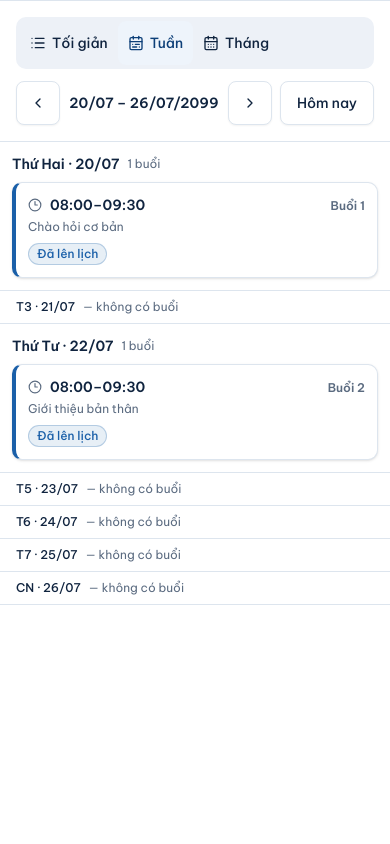
it: SessionCalendar — bố cục dọc cho màn hẹp › chạm một ngày trong lưới tháng thì panel chi tiết đổi theo
Click the button "Tháng": (236, 43) x1=193 y1=21 x2=279 y2=65
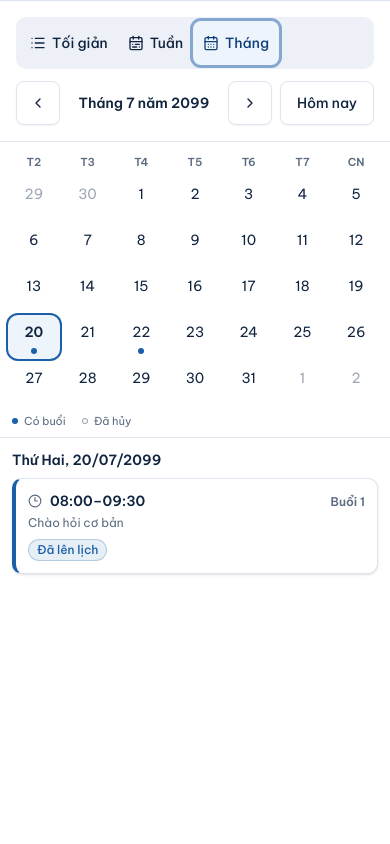
Expected: the heading "Thứ Hai, 20/07/2099" is shown, x1=12 y1=451 x2=161 y2=469
Click the button named "22/07/2099 — 1 buổi học": (141, 336) x1=115 y1=314 x2=167 y2=358
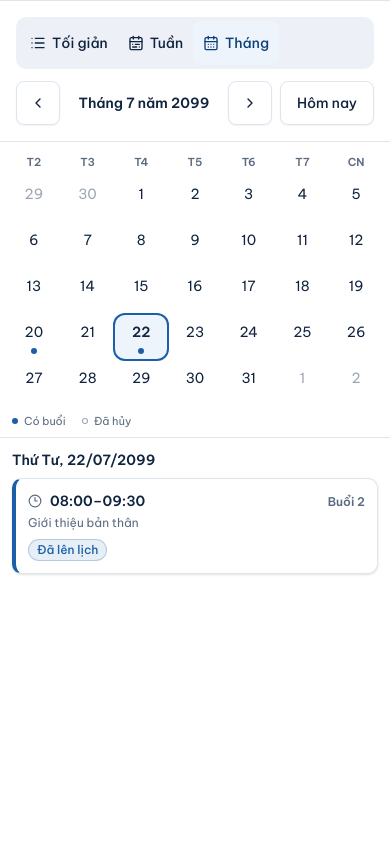
Expected: the heading "Thứ Tư, 22/07/2099" is shown, x1=12 y1=451 x2=155 y2=469
Expected: the text "Giới thiệu bản thân" is shown, x1=28 y1=515 x2=139 y2=530
